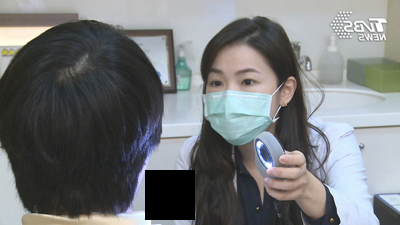with_mask: (200, 66, 275, 148)
